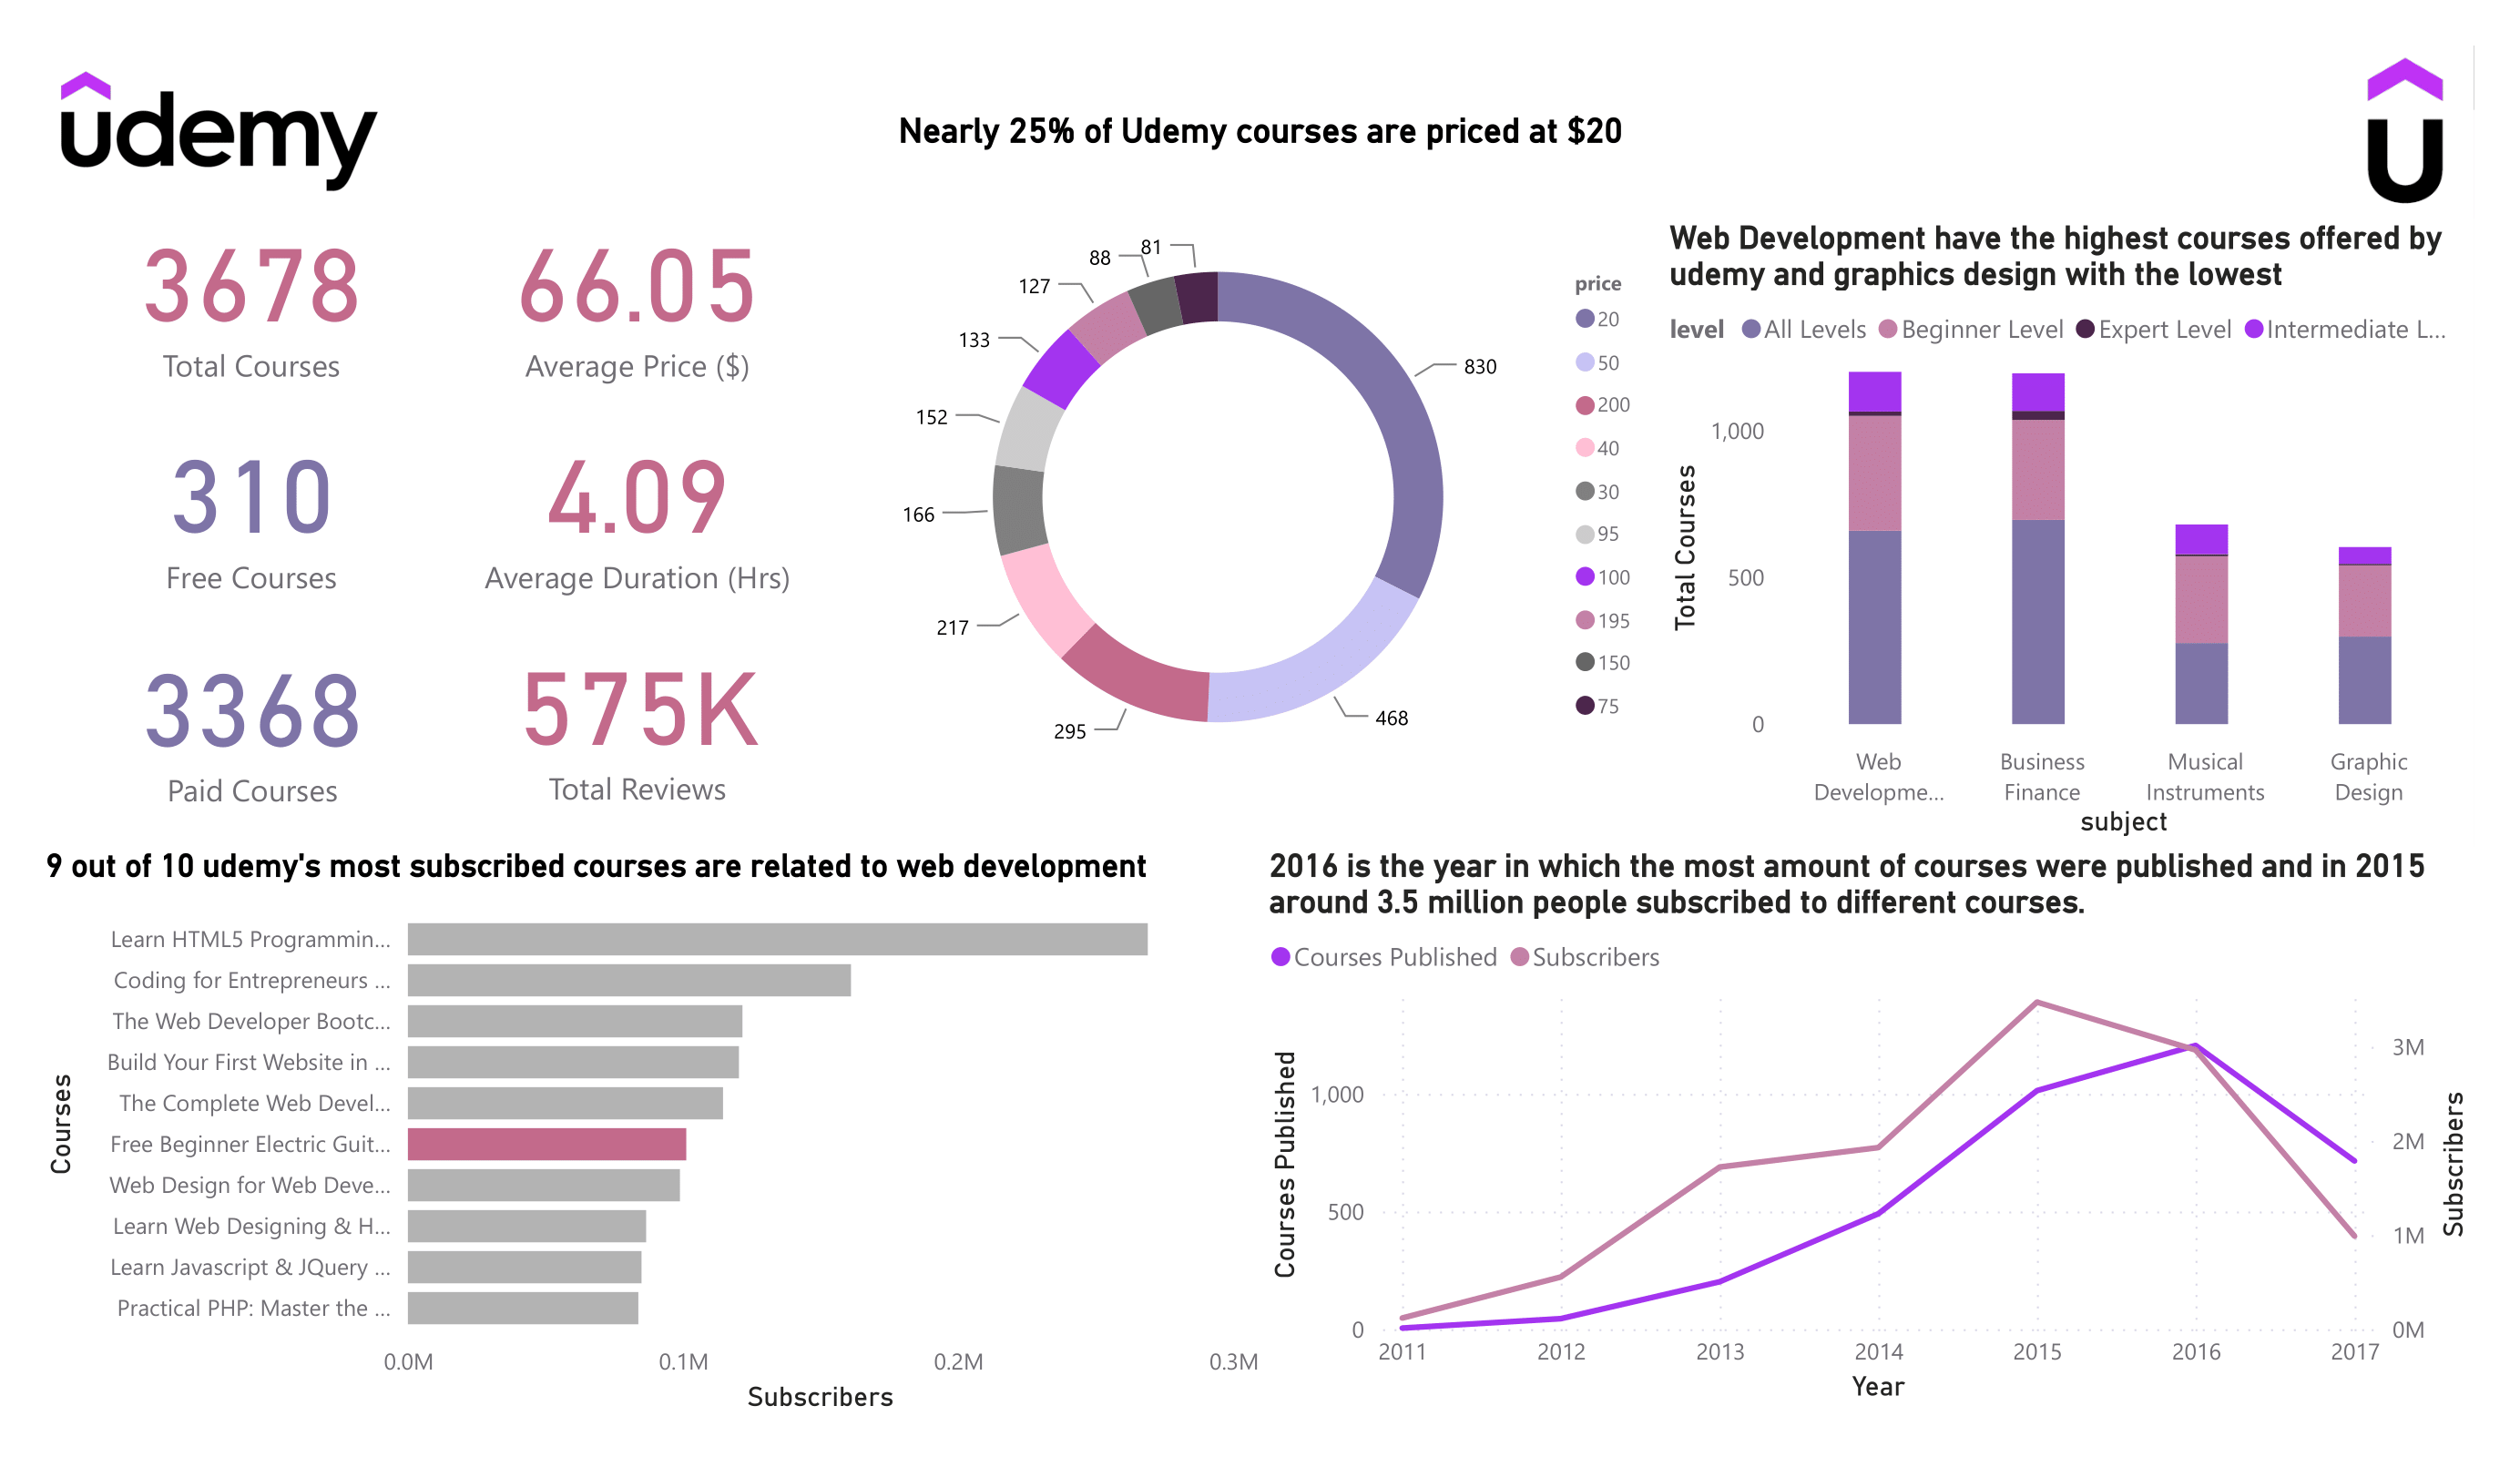

Layout of this report page (visuals, bound fields, positions):
{"tool":"powerbi","page":{"name":"Page 1","canvas":[1280,720],"ordinal":0},"visuals":[{"type":"image","box":[1202.5,0,77.5,91.2],"z":0},{"type":"donutChart","title":"Nearly 25% of Udemy courses are priced at $20","fields":{"Y":["CountNonNull(Onyx Data -DataDNA Dataset Chal.price)"],"Category":["Onyx Data -DataDNA Dataset Chal.price"]},"box":[430,33.8,421.2,387.5],"z":1000},{"type":"barChart","title":"9 out of 10 udemy''s most subscribed courses are related to web development","fields":{"Y":["Sum(Onyx Data -DataDNA Dataset Chal.num_subscribers)"],"Category":["Onyx Data -DataDNA Dataset Chal.course_title"]},"box":[0,421.5,640.3,298.5],"z":2000},{"type":"lineChart","title":"2016 is the year in which the most amount of courses were published and in 2015 around 3.5 million people subscribed to different courses.","fields":{"Category":["Onyx Data -DataDNA Dataset Chal.published_timestamp.Variation.Date Hierarchy.Year"],"Y":["CountNonNull(Onyx Data -DataDNA Dataset Chal.course_title)"],"Y2":["Sum(Onyx Data -DataDNA Dataset Chal.num_subscribers)"]},"box":[640.3,421.5,640.3,298.5],"z":3000},{"type":"card","fields":{"Values":["Avg(Onyx Data -DataDNA Dataset Chal.price)"]},"box":[211.9,74.1,200.5,111.6],"z":4000},{"type":"card","fields":{"Values":["CountNonNull(Onyx Data -DataDNA Dataset Chal.course_title)"]},"box":[0,74,217,112],"z":5000},{"type":"card","fields":{"Values":["Avg(Onyx Data -DataDNA Dataset Chal.content_duration)"]},"box":[211.9,185.7,200.5,111.6],"z":6000},{"type":"card","fields":{"Values":["CountNonNull(Onyx Data -DataDNA Dataset Chal.is_paid)"]},"box":[0,186,217,111],"z":7000},{"type":"card","fields":{"Values":["CountNonNull(Onyx Data -DataDNA Dataset Chal.is_paid)"]},"box":[0,298,218,112],"z":8000},{"type":"card","fields":{"Values":["Sum(Onyx Data -DataDNA Dataset Chal.num_reviews)"]},"box":[211.9,297.3,200.5,111.6],"z":9000},{"type":"image","box":[0,0,182.5,91.2],"z":10000},{"type":"columnChart","title":"Web Development have the highest courses offered by udemy and graphics design with the lowest","fields":{"Category":["Onyx Data -DataDNA Dataset Chal.subject"],"Y":["CountNonNull(Onyx Data -DataDNA Dataset Chal.course_title)"],"Series":["Onyx Data -DataDNA Dataset Chal.level"]},"box":[851,91,429,331],"z":10001}]}

Visuals, with their boxes in screenshot pixels (x1, y1, x2, y2):
image: [left=2328, top=46, right=2474, bottom=219]
"Nearly 25% of Udemy courses are priced at $20" donutChart: [left=862, top=109, right=1661, bottom=845]
"9 out of 10 udemy''s most subscribed courses are related to web development" barChart: [left=46, top=845, right=1260, bottom=1411]
"2016 is the year in which the most amount of courses were published and in 2015 around 3.5 million people subscribed to different courses." lineChart: [left=1260, top=845, right=2474, bottom=1411]
card - Avg(Onyx Data -DataDNA Dataset Chal.price): [left=448, top=186, right=828, bottom=398]
card - CountNonNull(Onyx Data -DataDNA Dataset Chal.course_title): [left=46, top=186, right=457, bottom=399]
card - Avg(Onyx Data -DataDNA Dataset Chal.content_duration): [left=448, top=398, right=828, bottom=609]
card - CountNonNull(Onyx Data -DataDNA Dataset Chal.is_paid): [left=46, top=399, right=457, bottom=609]
card - CountNonNull(Onyx Data -DataDNA Dataset Chal.is_paid): [left=46, top=611, right=459, bottom=823]
card - Sum(Onyx Data -DataDNA Dataset Chal.num_reviews): [left=448, top=609, right=828, bottom=821]
image: [left=46, top=46, right=392, bottom=219]
"Web Development have the highest courses offered by udemy and graphics design with the lowest" columnChart: [left=1660, top=219, right=2474, bottom=846]
